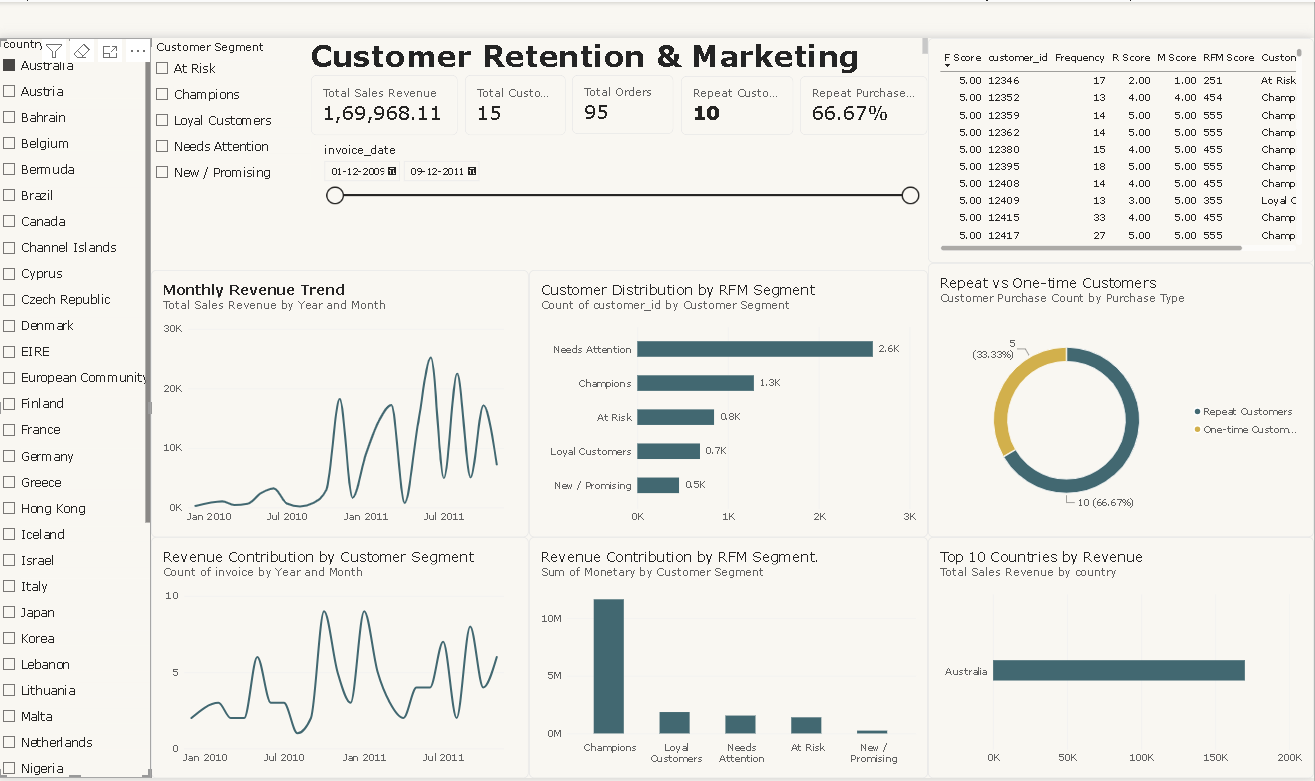

What the dashboard file says about the page in this screenshot:
{"tool":"powerbi","page":{"name":"Page 1","canvas":[1920,1080],"ordinal":0},"visuals":[{"type":"cardVisual","fields":{"Data":["Online_Retail_II_MySQL_Ready.Total Sales Revenue"]},"box":[456.2,54.5,214.5,89],"z":0},{"type":"cardVisual","fields":{"Data":["Online_Retail_II_MySQL_Ready.Total Customers"]},"box":[681,54.5,147.4,89],"z":1000},{"type":"cardVisual","fields":{"Data":["Online_Retail_II_MySQL_Ready.Total Orders"]},"box":[837.9,54.5,148.8,86.1],"z":2000},{"type":"cardVisual","fields":{"Data":["Online_Retail_II_MySQL_Ready.Repeat Customers"]},"box":[996.2,55.9,164.9,86.1],"z":3000},{"type":"cardVisual","fields":{"Data":["Online_Retail_II_MySQL_Ready.Repeat Purchase Rate"]},"box":[1170.4,55.9,186.2,86.5],"z":4000},{"type":"lineChart","title":"Monthly Revenue Trend","fields":{"Category":["Online_Retail_II_MySQL_Ready.invoice_date.Variation.Date Hierarchy.Year","Online_Retail_II_MySQL_Ready.invoice_date.Variation.Date Hierarchy.Month"],"Y":["Online_Retail_II_MySQL_Ready.Total Sales Revenue"]},"box":[223.2,338.5,551.5,389.5],"z":5000},{"type":"clusteredBarChart","title":"Top 10 Countries by Revenue","fields":{"Category":["Online_Retail_II_MySQL_Ready.country"],"Y":["Online_Retail_II_MySQL_Ready.Total Sales Revenue"]},"box":[1356.8,728,563.2,351.6],"z":6000},{"type":"tableEx","fields":{"Values":["RFM Analysis.F Score","RFM Analysis.customer_id","RFM Analysis.Frequency","RFM Analysis.R Score","RFM Analysis.M Score","RFM Analysis.RFM Score","RFM Analysis.Customer Segment"]},"box":[1356.8,0,563.2,328.3],"z":7000},{"type":"clusteredBarChart","title":"Customer Distribution by RFM Segment","fields":{"Category":["RFM Analysis.Customer Segment"],"Y":["CountNonNull(RFM Analysis.customer_id)"]},"box":[774.7,338.5,582.1,389.5],"z":8000},{"type":"donutChart","title":"Repeat vs One-time Customers","fields":{"Category":["Customer Purchase Type.Purchase Type"],"Y":["Online_Retail_II_MySQL_Ready.Customer Purchase Count"]},"box":[1356.8,328.3,563.2,399.8],"z":9000},{"type":"lineChart","title":"Revenue Contribution by Customer Segment","fields":{"Category":["Online_Retail_II_MySQL_Ready.invoice_date.Variation.Date Hierarchy.Year","Online_Retail_II_MySQL_Ready.invoice_date.Variation.Date Hierarchy.Month"],"Y":["Count(Online_Retail_II_MySQL_Ready.invoice)"]},"box":[223.2,728,551.5,351.6],"z":10000},{"type":"clusteredColumnChart","title":"Revenue Contribution by RFM Segment.","fields":{"Category":["RFM Analysis.Customer Segment"],"Y":["Sum(RFM Analysis.Monetary)"]},"box":[774.7,728,582.1,351.6],"z":11000},{"type":"slicer","fields":{"Values":["Online_Retail_II_MySQL_Ready.country"]},"box":[0,0,223.2,1079.6],"z":12000},{"type":"slicer","fields":{"Values":["Online_Retail_II_MySQL_Ready.invoice_date"]},"box":[468.2,154.3,879.2,174.2],"z":13000},{"type":"slicer","fields":{"Values":["RFM Analysis.Customer Segment"]},"box":[223.4,4,232.8,324.5],"z":14000},{"type":"textbox","box":[456.2,0,900.4,55.9],"z":15000}]}

Visuals, with their boxes on the page's 1920x1080 design canvas (x1, y1, x2, y2). These are canvas units, not pixel positions in the 1315x781 screenshot, which may show the page scaled, cropped or inside an application window:
cardVisual - Online_Retail_II_MySQL_Ready.Total Sales Revenue: <box>456,54,671,144</box>
cardVisual - Online_Retail_II_MySQL_Ready.Total Customers: <box>681,54,828,144</box>
cardVisual - Online_Retail_II_MySQL_Ready.Total Orders: <box>838,54,987,141</box>
cardVisual - Online_Retail_II_MySQL_Ready.Repeat Customers: <box>996,56,1161,142</box>
cardVisual - Online_Retail_II_MySQL_Ready.Repeat Purchase Rate: <box>1170,56,1357,142</box>
"Monthly Revenue Trend" lineChart: <box>223,338,775,728</box>
"Top 10 Countries by Revenue" clusteredBarChart: <box>1357,728,1920,1080</box>
tableEx - RFM Analysis.F Score x RFM Analysis.customer_id: <box>1357,0,1920,328</box>
"Customer Distribution by RFM Segment" clusteredBarChart: <box>775,338,1357,728</box>
"Repeat vs One-time Customers" donutChart: <box>1357,328,1920,728</box>
"Revenue Contribution by Customer Segment" lineChart: <box>223,728,775,1080</box>
"Revenue Contribution by RFM Segment." clusteredColumnChart: <box>775,728,1357,1080</box>
slicer - Online_Retail_II_MySQL_Ready.country: <box>0,0,223,1080</box>
slicer - Online_Retail_II_MySQL_Ready.invoice_date: <box>468,154,1347,328</box>
slicer - RFM Analysis.Customer Segment: <box>223,4,456,328</box>
textbox: <box>456,0,1357,56</box>
